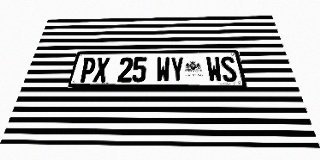2: (117, 57, 133, 82)
5: (132, 57, 147, 82)
P: (78, 57, 97, 82)
S: (220, 56, 238, 82)
W: (206, 56, 223, 82), (156, 57, 170, 82)
X: (92, 57, 110, 82)
Y: (170, 57, 185, 82)
